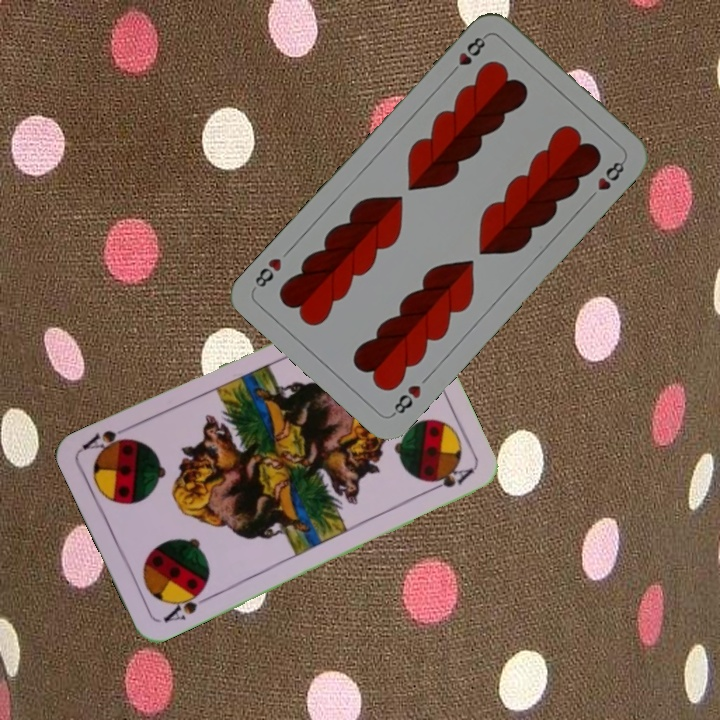H8: (445, 31, 488, 79), (387, 380, 424, 419)
SA: (159, 584, 213, 625)
